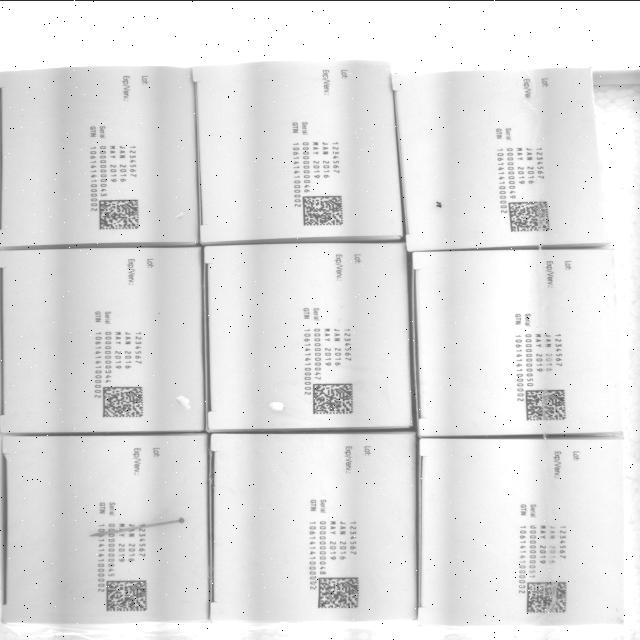datamatrix: (524, 389, 569, 423), (301, 192, 346, 226), (315, 576, 360, 610), (104, 578, 149, 612), (101, 384, 146, 418), (508, 197, 552, 231), (525, 580, 569, 614), (312, 380, 356, 414), (97, 196, 141, 230)
